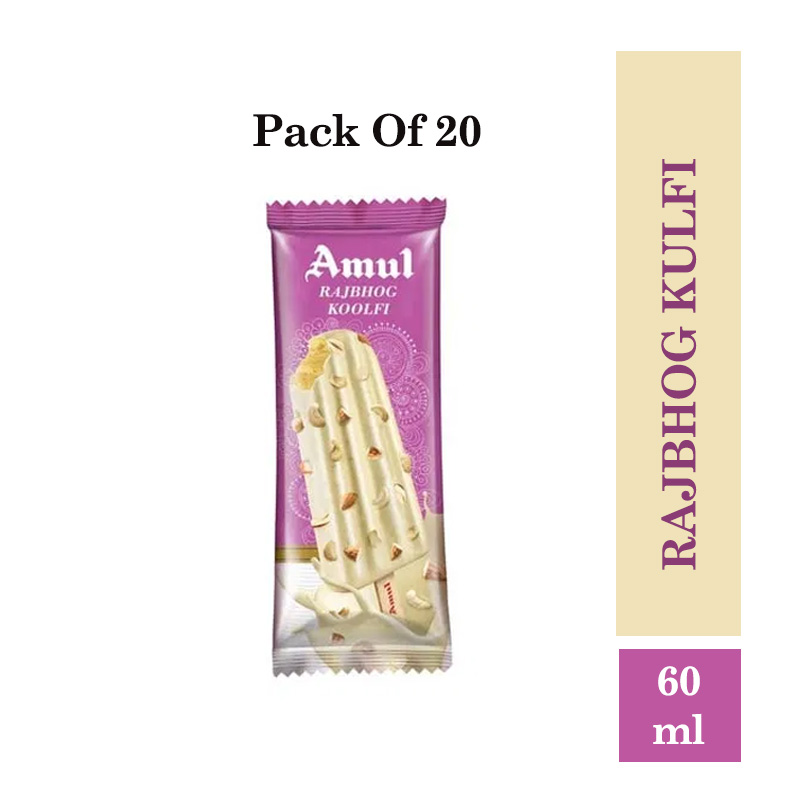Amul: (296, 241, 422, 285)
